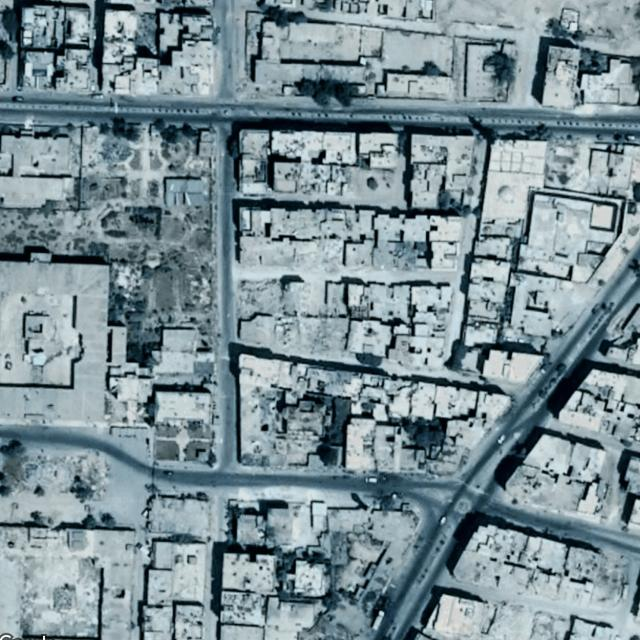damaged_building: (239, 205, 350, 357)
